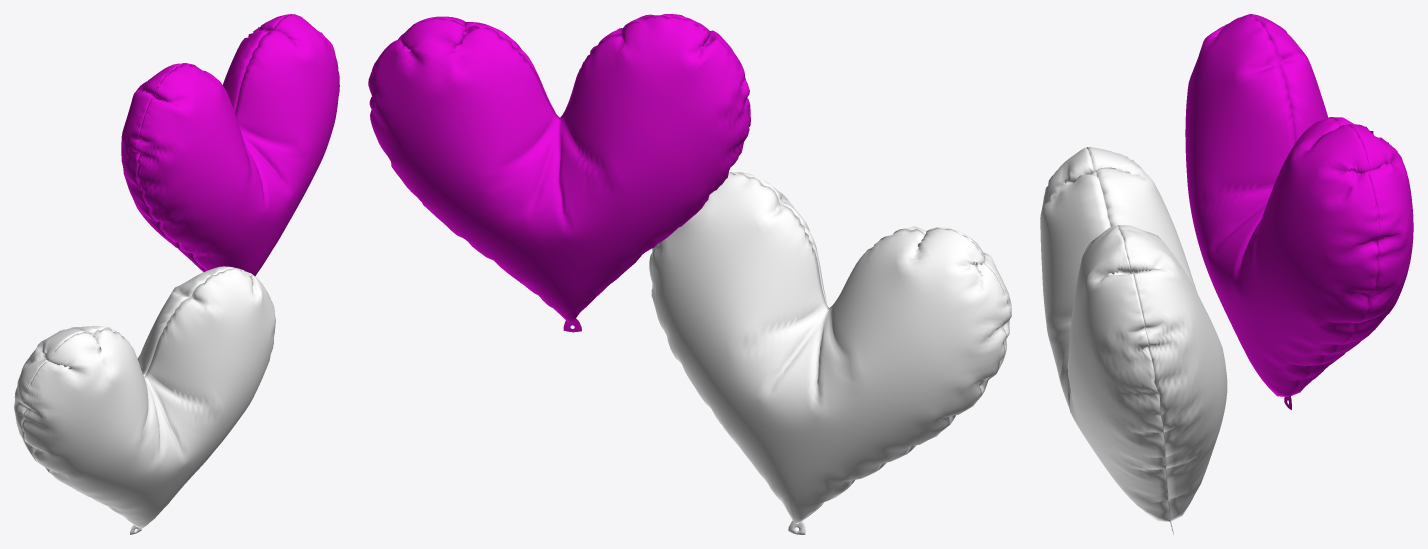
Rendered from balloon.glb.
3 views of the same model, side by side, from view 1: azimuth 30°, elevation 25°; view 2: azimuth 150°, elevation 25°; view 3: azimuth 270°, elevation 25° (orthographic). The views are drawn at different scales.
Visible parts, largest first — view 1: 圓柱體.002, 圓柱體.001; view 2: 圓柱體.001, 圓柱體.002; view 3: 圓柱體.001, 圓柱體.002.
Part boxes in pixels (x1,y1,x2,y2): 圓柱體.002: (14, 266, 275, 534); 圓柱體.001: (121, 14, 339, 276); 圓柱體.001: (368, 14, 750, 332); 圓柱體.002: (649, 172, 1011, 534); 圓柱體.001: (1185, 14, 1413, 409); 圓柱體.002: (1040, 147, 1227, 534).
Bounding box in the file's own units: 0.5864 × 0.5792 × 0.3502.
